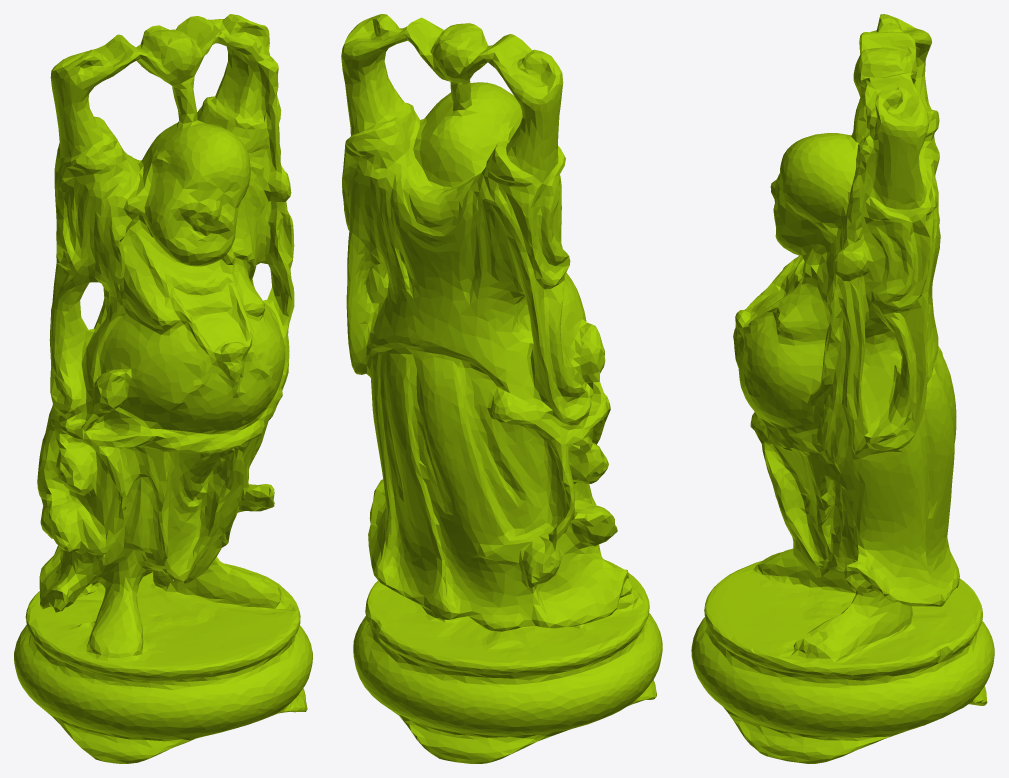
The model's file is bunnyA.obj.
The picture shows the model from 3 angles, left to right: view 1: azimuth 30°, elevation 25°; view 2: azimuth 150°, elevation 25°; view 3: azimuth 270°, elevation 25°; orthographic projection. The views are drawn at different scales.
Visible parts, largest first — view 1: buddha; view 2: buddha; view 3: buddha.
Part boxes in pixels (x1,y1,x2,y2): buddha: (14,14,312,763); buddha: (341,14,662,763); buddha: (691,14,994,763).
Bounding box in the file's own units: 7.58 × 18.44 × 7.58.
